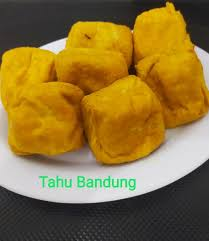Tahu goreng: (76, 75, 169, 166), (2, 84, 88, 157), (156, 44, 207, 129), (49, 42, 133, 93), (128, 5, 198, 56), (62, 16, 136, 56), (0, 47, 57, 88)
